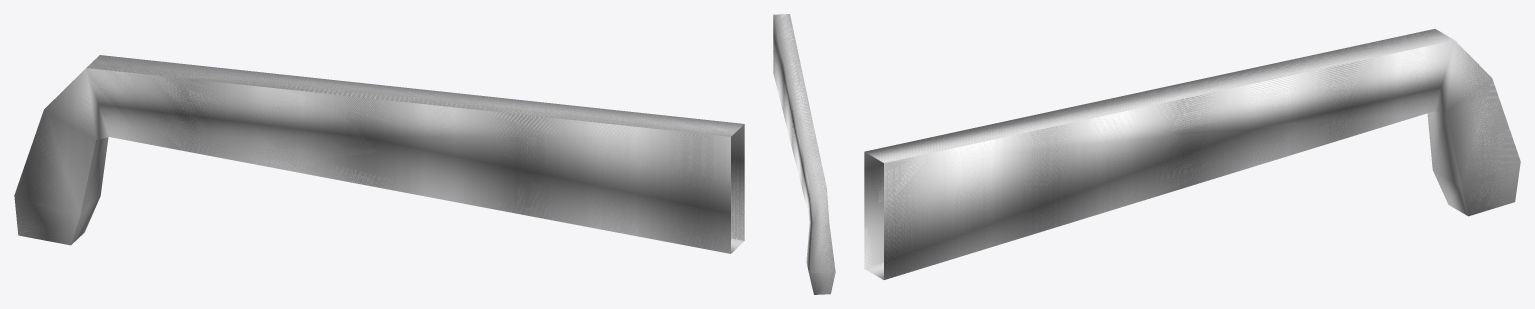
The model's file is original-25.obj.
3 views of the same model, side by side, from view 1: azimuth 30°, elevation 25°; view 2: azimuth 150°, elevation 25°; view 3: azimuth 270°, elevation 25° (orthographic). The views are drawn at different scales.
Parts seen in each view (by area): view 1: mesh4/mesh4-geometry#mesh4-geometry; view 2: mesh4/mesh4-geometry#mesh4-geometry; view 3: mesh4/mesh4-geometry#mesh4-geometry.
Boxes of the visible parts, x1,y1,x2,y2 form: mesh4/mesh4-geometry#mesh4-geometry: [14, 55, 744, 253]; mesh4/mesh4-geometry#mesh4-geometry: [773, 14, 835, 294]; mesh4/mesh4-geometry#mesh4-geometry: [864, 29, 1520, 279].
Size of the model in its own units: 0.3455 by 0.1796 by 0.4595.
Materials: 2 (1 with a texture image).
